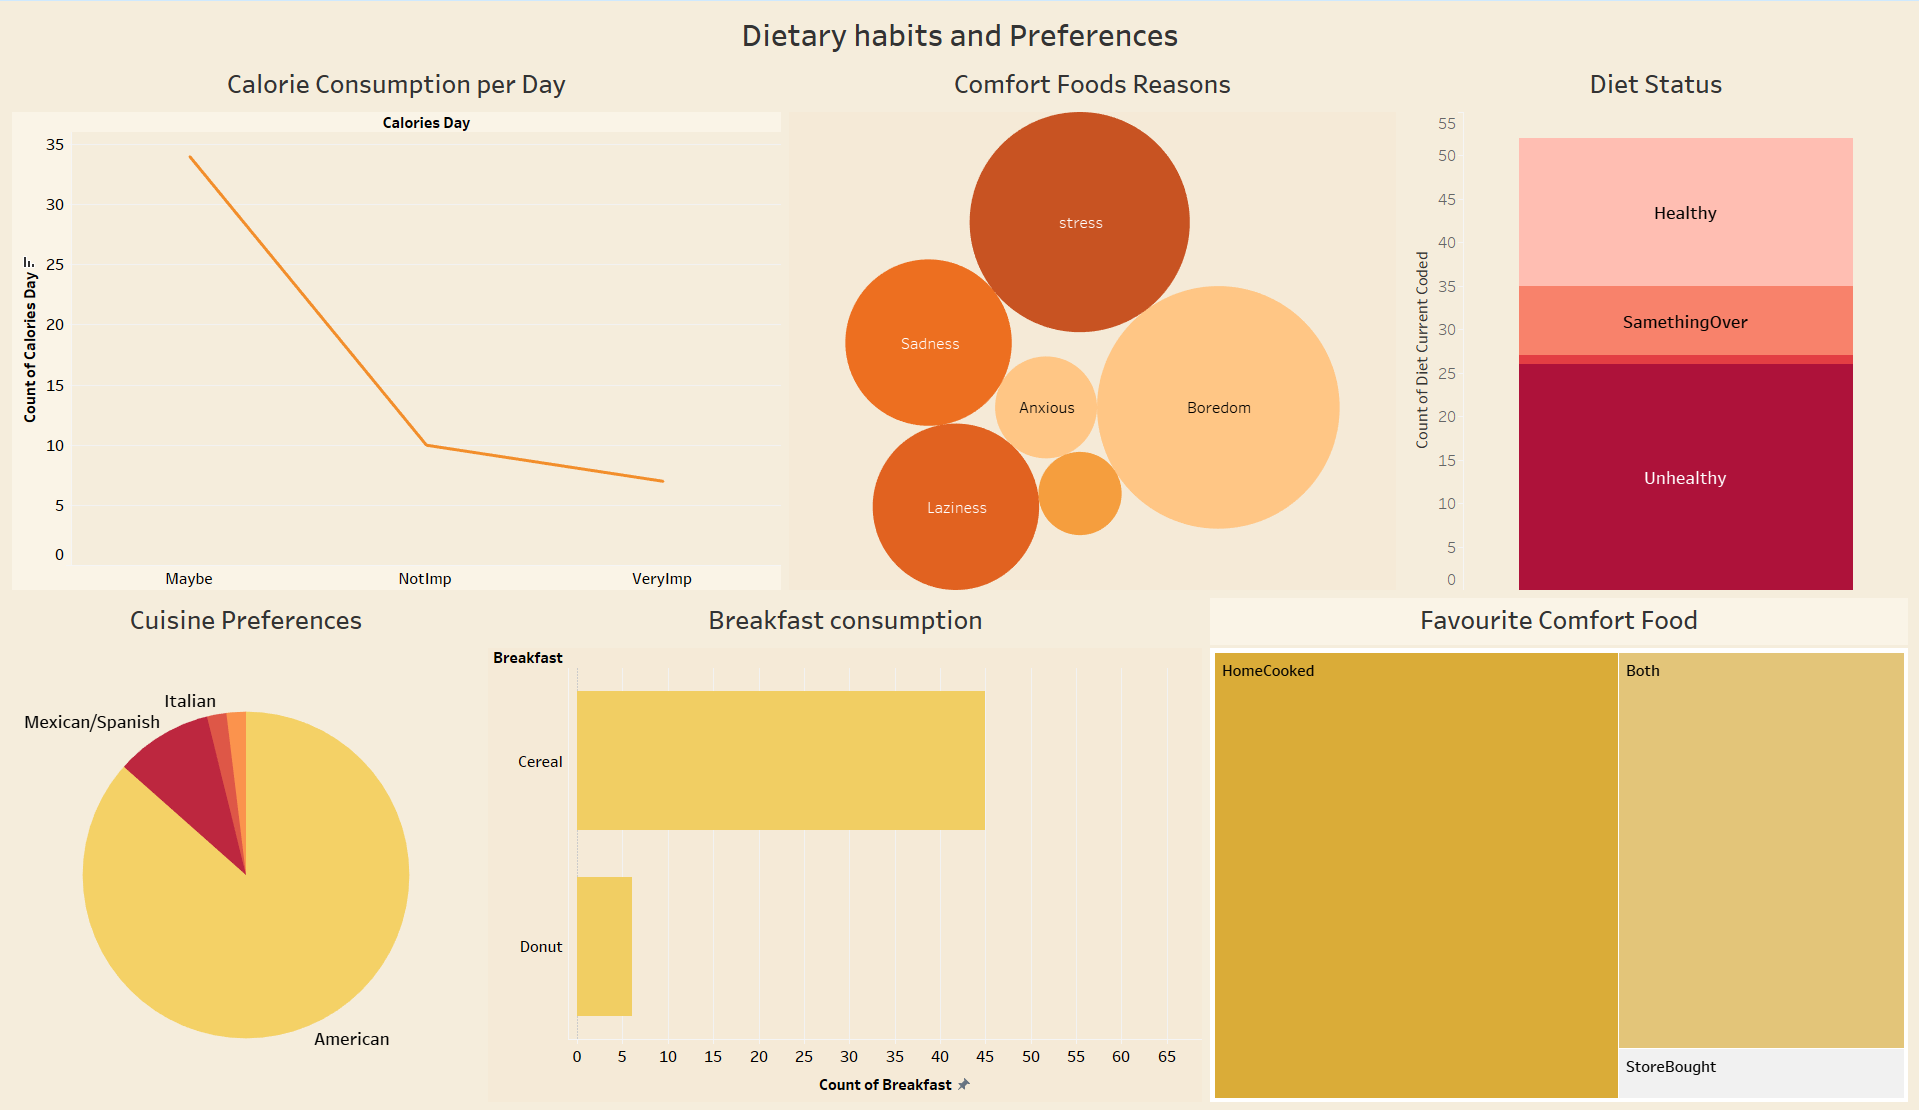

Layout of this report page (visuals, bound fields, positions):
{"tool":"tableau","page":{"name":"Dashboard 2","canvas":[1000,1000],"units":"permille","ordinal":1},"visuals":[{"type":"title","box":[4.2,7.2,991.7,44]},{"type":"worksheet","title":"line plot","mark":"Line","rows":["calories_day"],"cols":["calories_day"],"box":[4.2,51.2,404.9,481.2]},{"type":"worksheet","title":"Bubble plot","mark":"Circle","box":[409.1,51.2,320.3,481.2]},{"type":"worksheet","title":"stack bar","mark":"Automatic","rows":["diet_current_coded"],"box":[729.4,51.2,266.4,481.2]},{"type":"worksheet","title":"cuisine pie","mark":"Pie","box":[4.2,532.5,247.9,460.3]},{"type":"worksheet","title":"bar graph","mark":"Automatic","rows":["breakfast"],"cols":["breakfast"],"box":[252,532.5,376.3,460.3]},{"type":"worksheet","title":"Tree map","mark":"Automatic","box":[628.4,532.5,367.5,460.3]}]}

Visuals, with their boxes on the dashboard's canvas, which has no fixed pixel size, in thousandths of its width and height (x1, y1, x2, y2). These are canvas units, not pixel positions in the 1919x1110 screenshot, which may show the page scaled, cropped or inside an application window:
title: <bbox>4, 7, 996, 51</bbox>
"line plot" worksheet (Line marks): <bbox>4, 51, 409, 532</bbox>
"Bubble plot" worksheet (Circle marks): <bbox>409, 51, 729, 532</bbox>
"stack bar" worksheet: <bbox>729, 51, 996, 532</bbox>
"cuisine pie" worksheet (Pie marks): <bbox>4, 532, 252, 993</bbox>
"bar graph" worksheet: <bbox>252, 532, 628, 993</bbox>
"Tree map" worksheet: <bbox>628, 532, 996, 993</bbox>
